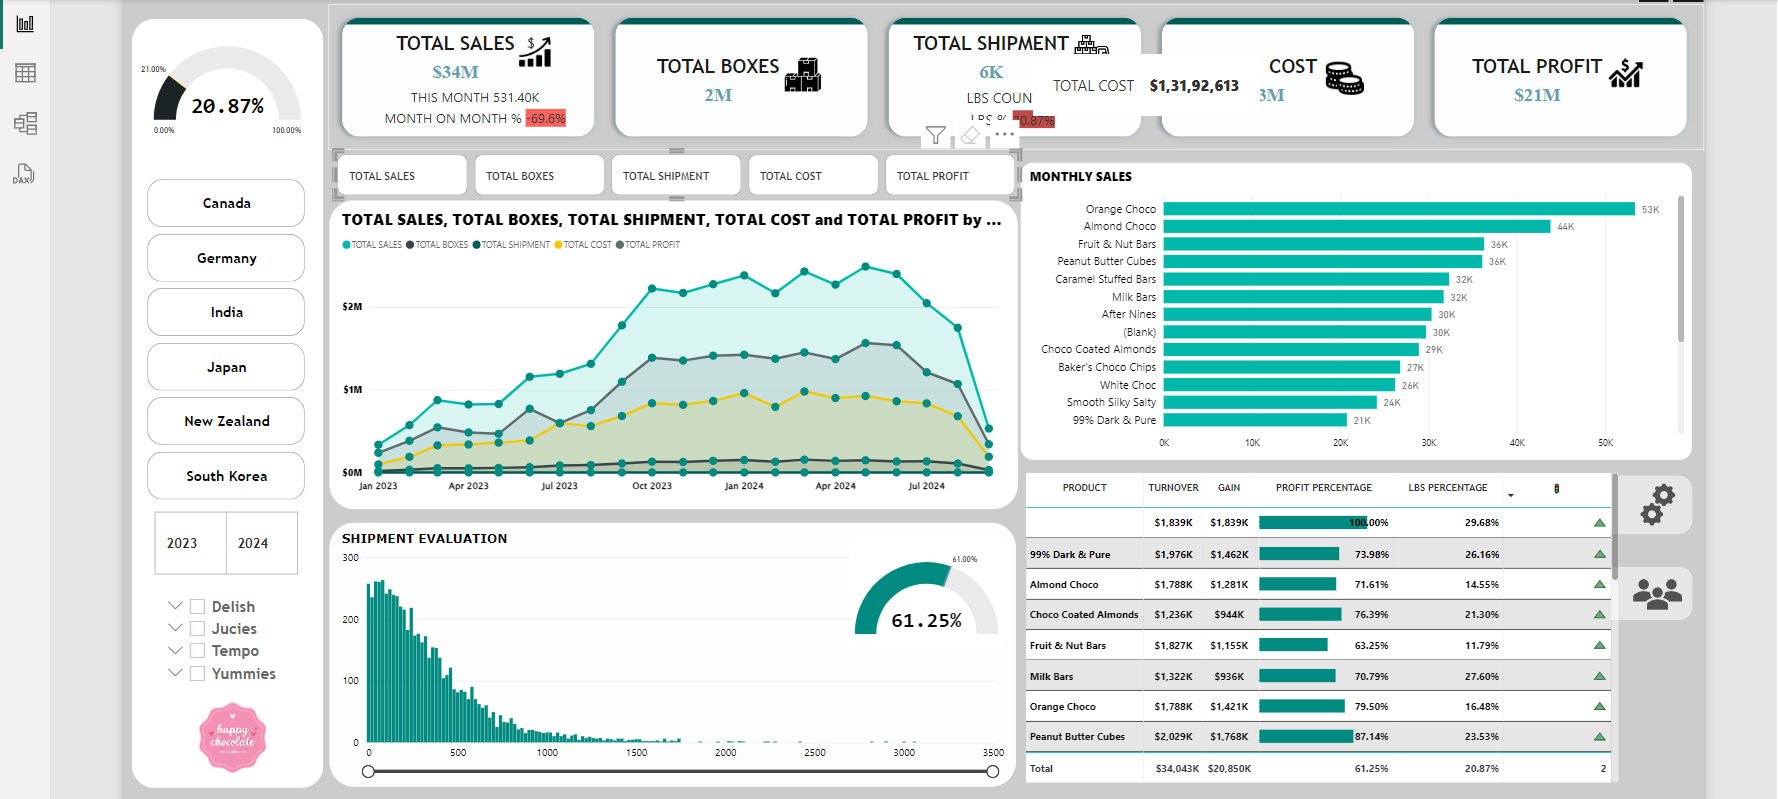

The dashboard page shown, as its layout file describes it:
{"tool":"powerbi","page":{"name":"Page 3","canvas":[1920,1080],"ordinal":1},"visuals":[{"type":"columnChart","fields":{"Category":["shipments.Boxes (bins)"],"Y":["measurement.TOTAL SHIPMENT"]},"box":[10,0,680,523.3],"z":0},{"type":"gauge","fields":{"Y":["measurement.LBS PERCENTAGE"]},"box":[10,533.3,666.7,181.7],"z":1000}]}

Visuals, with their boxes on the page's 1920x1080 design canvas (x1, y1, x2, y2). These are canvas units, not pixel positions in the 1778x799 screenshot, which may show the page scaled, cropped or inside an application window:
columnChart - shipments.Boxes (bins) x measurement.TOTAL SHIPMENT: (10,0,690,523)
gauge - measurement.LBS PERCENTAGE: (10,533,677,715)
